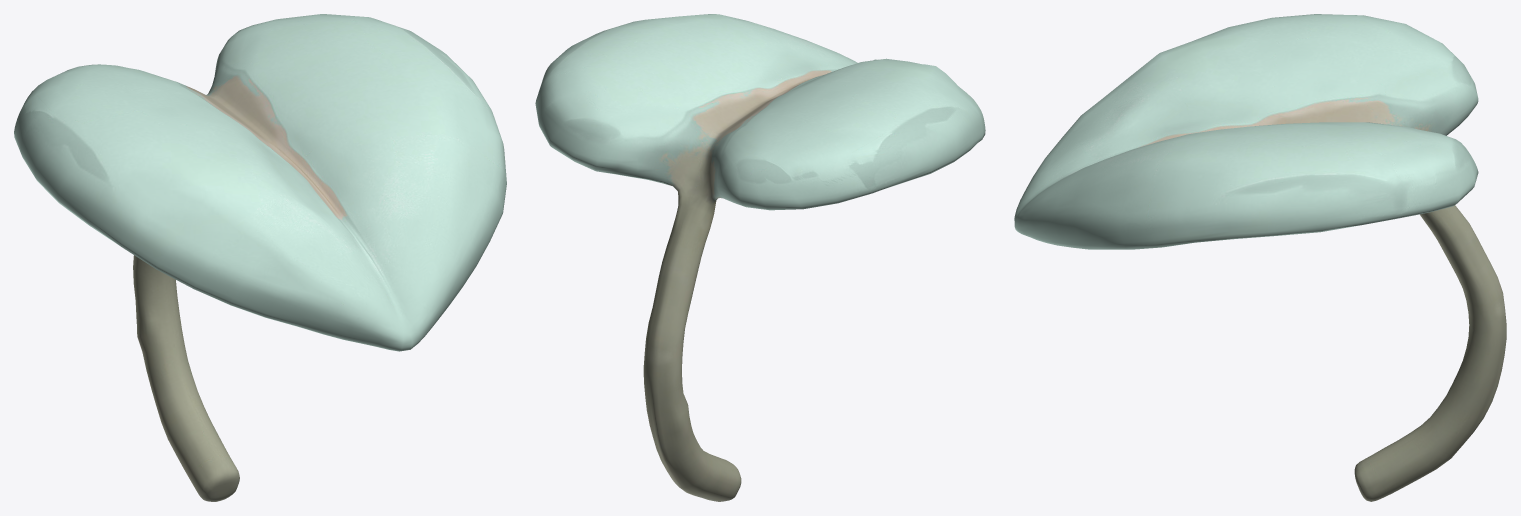
File: pothos_whitegreen_29_v2.glb
3 views of the same model, side by side, from view 1: azimuth 30°, elevation 25°; view 2: azimuth 150°, elevation 25°; view 3: azimuth 270°, elevation 25° (orthographic). The views are drawn at different scales.
Parts seen in each view (by area): view 1: world; view 2: world; view 3: world.
Part boxes in pixels (left/top/right/bottom): world: left=14, top=14, right=506, bottom=501; world: left=535, top=14, right=985, bottom=501; world: left=1014, top=14, right=1506, bottom=501.
Size of the model in its own units: 1.82 by 1.85 by 2.
1 material, 1 textured.
